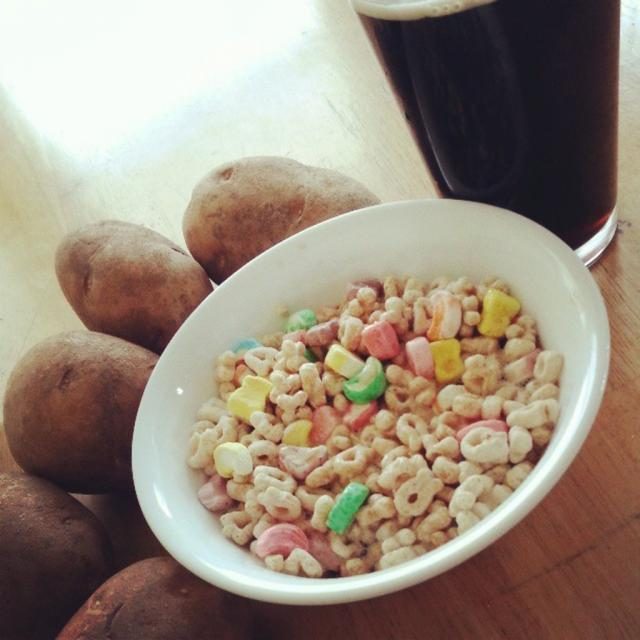Potato: (0, 152, 376, 640)
